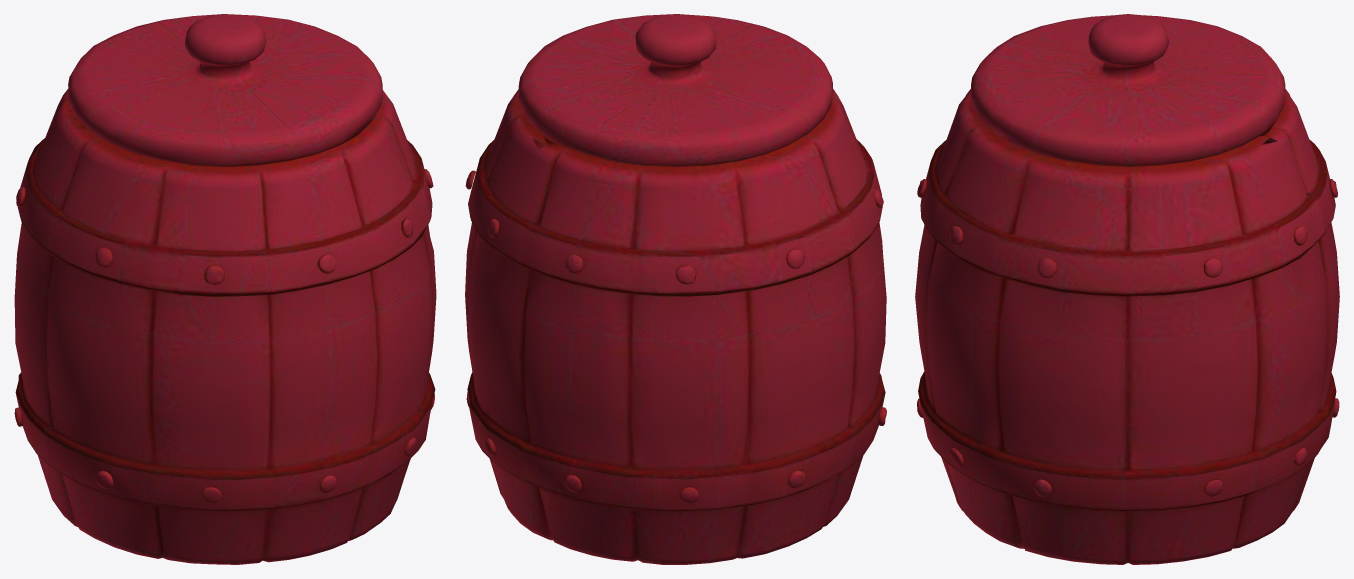
Rendered from item12_crimson_cookie_jar.glb.
3 renders of one model, left to right at view 1: azimuth 30°, elevation 25°; view 2: azimuth 150°, elevation 25°; view 3: azimuth 270°, elevation 25°, orthographic.
Parts seen in each view (by area): view 1: geometry_0; view 2: geometry_0; view 3: geometry_0.
Part boxes in pixels (<box>): geometry_0: <box>14,14,436,564</box>; geometry_0: <box>465,14,886,564</box>; geometry_0: <box>915,14,1339,564</box>.
Size of the model in its own units: 0.77 by 0.9517 by 0.7803.
Materials: 1 (1 with a texture image).
